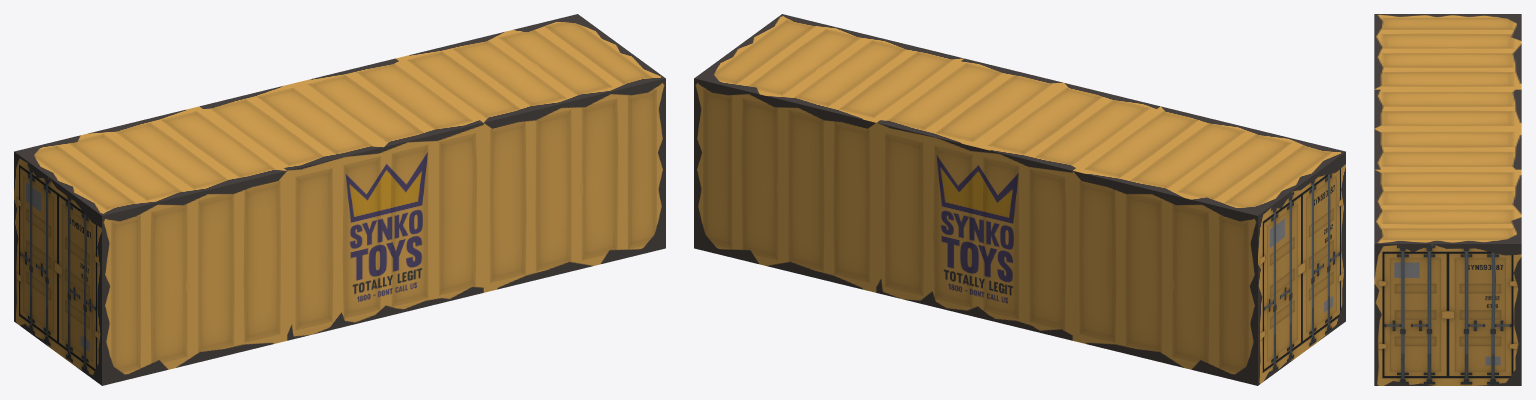
Rendered from SM_Prop_Container_Large_01.fbx.
3 renders of one model, left to right at view 1: azimuth 30°, elevation 25°; view 2: azimuth 150°, elevation 25°; view 3: azimuth 270°, elevation 25°, orthographic. The views are drawn at different scales.
Parts seen in each view (by area): view 1: SM_Prop_Container_Large_01; view 2: SM_Prop_Container_Large_01; view 3: SM_Prop_Container_Large_01.
Part boxes in pixels (box(x1,y1,x2,y2)): SM_Prop_Container_Large_01: box(14, 14, 665, 385); SM_Prop_Container_Large_01: box(694, 14, 1345, 385); SM_Prop_Container_Large_01: box(1374, 14, 1521, 385).
Size of the model in its own units: 899 by 259 by 243.
